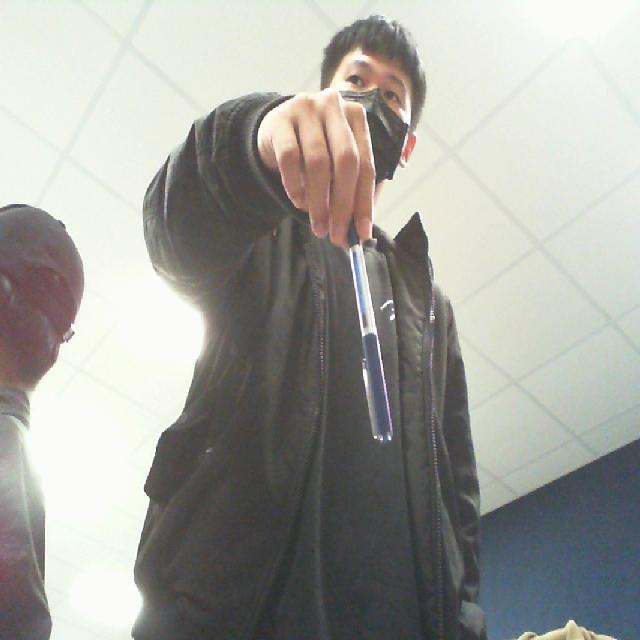Pen: (337, 202, 400, 460)
